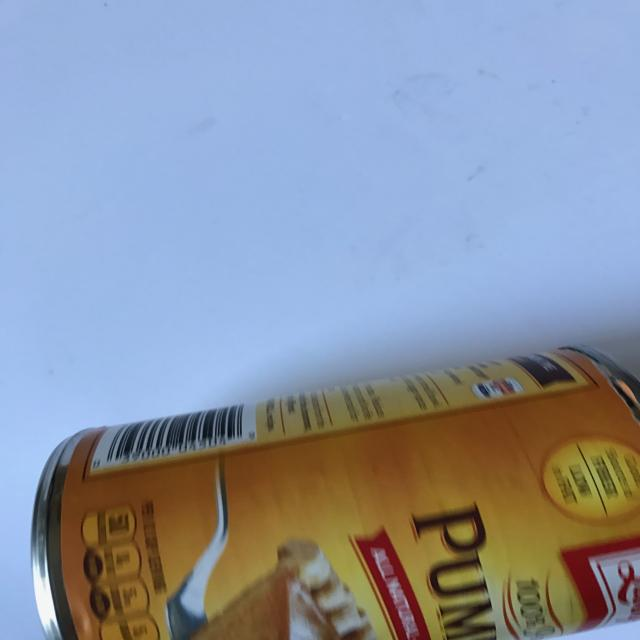metal: (30, 343, 639, 638)
